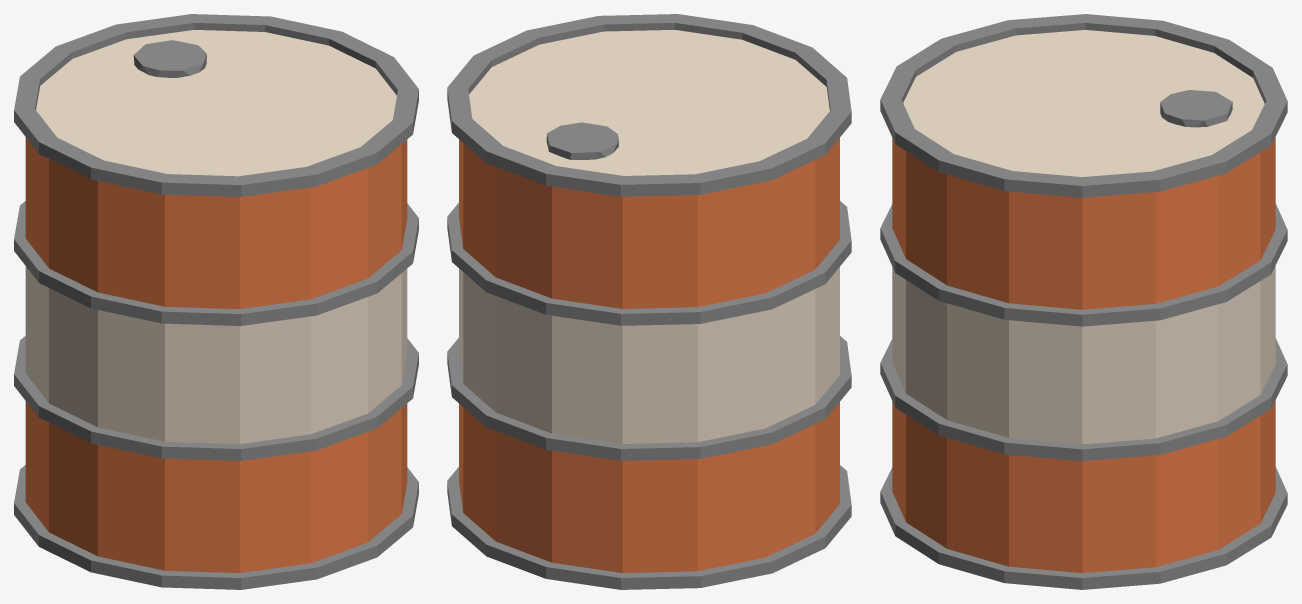
The model's file is Barrel_1_4.fbx.
3 renders of one model, left to right at view 1: azimuth 30°, elevation 25°; view 2: azimuth 150°, elevation 25°; view 3: azimuth 270°, elevation 25°, orthographic.
Visible parts, largest first — view 1: Barrel_1_4; view 2: Barrel_1_4; view 3: Barrel_1_4.
Boxes of the visible parts, x1,y1,x2,y2 form: Barrel_1_4: (14, 14, 418, 589); Barrel_1_4: (447, 14, 851, 589); Barrel_1_4: (880, 14, 1287, 589).
Size of the model in its own units: 78.54 by 86 by 78.54.
